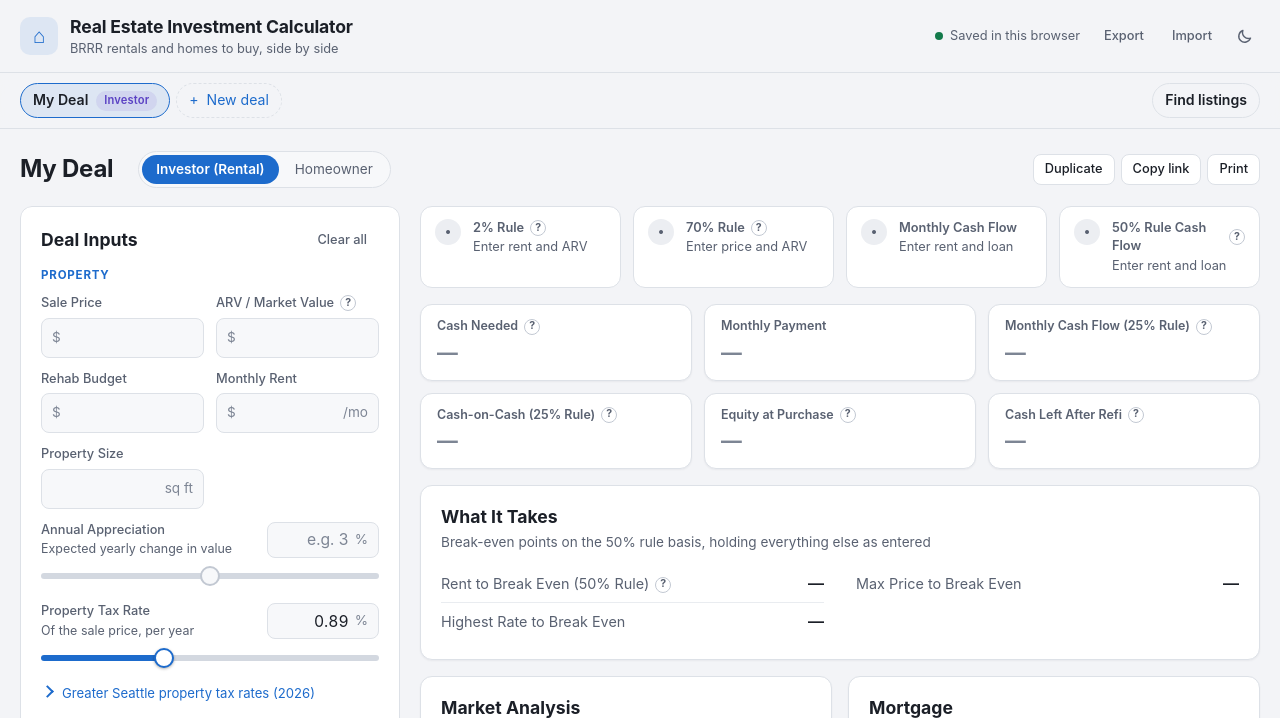
Test case: App › applies a greater Seattle tax rate from the reference list
Click the heading "Greater Seattle property tax rates (2026)".
click(188, 693)  # box [62,685,315,701]
(page scrolled)
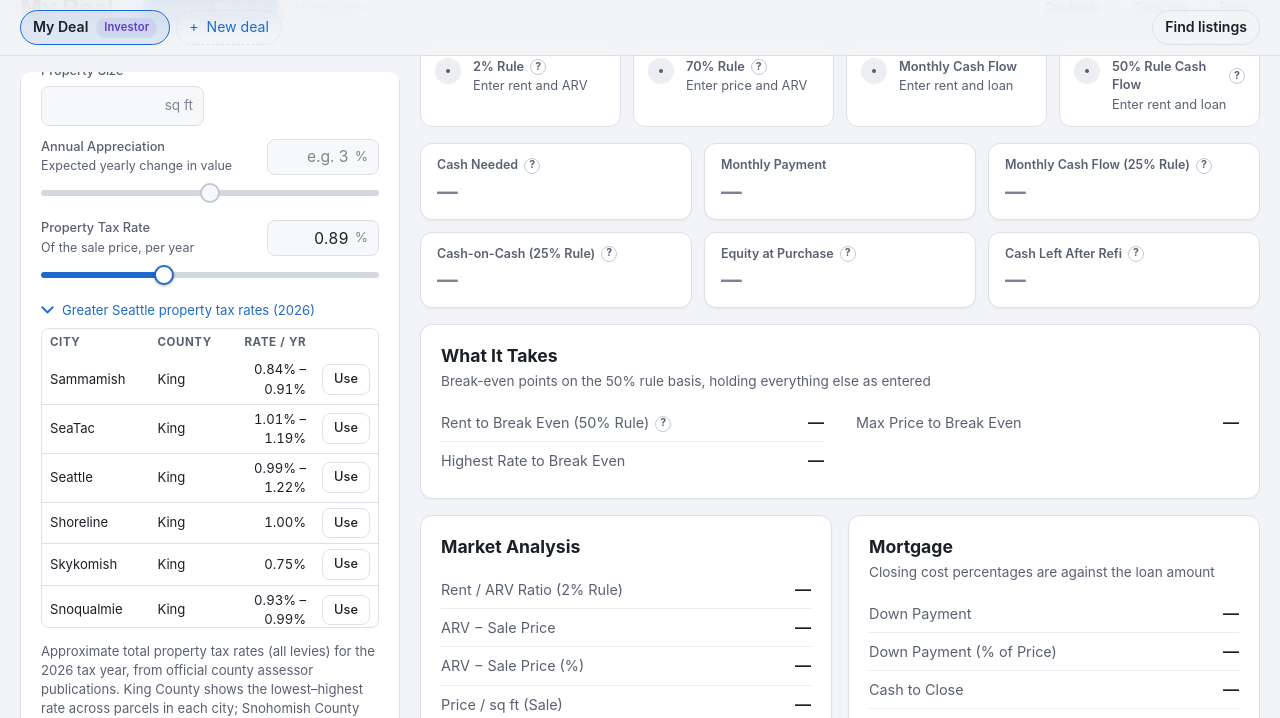
Click the button "Use" next to "0.99% – 1.22%".
click(346, 478)  # box [322,462,370,493]
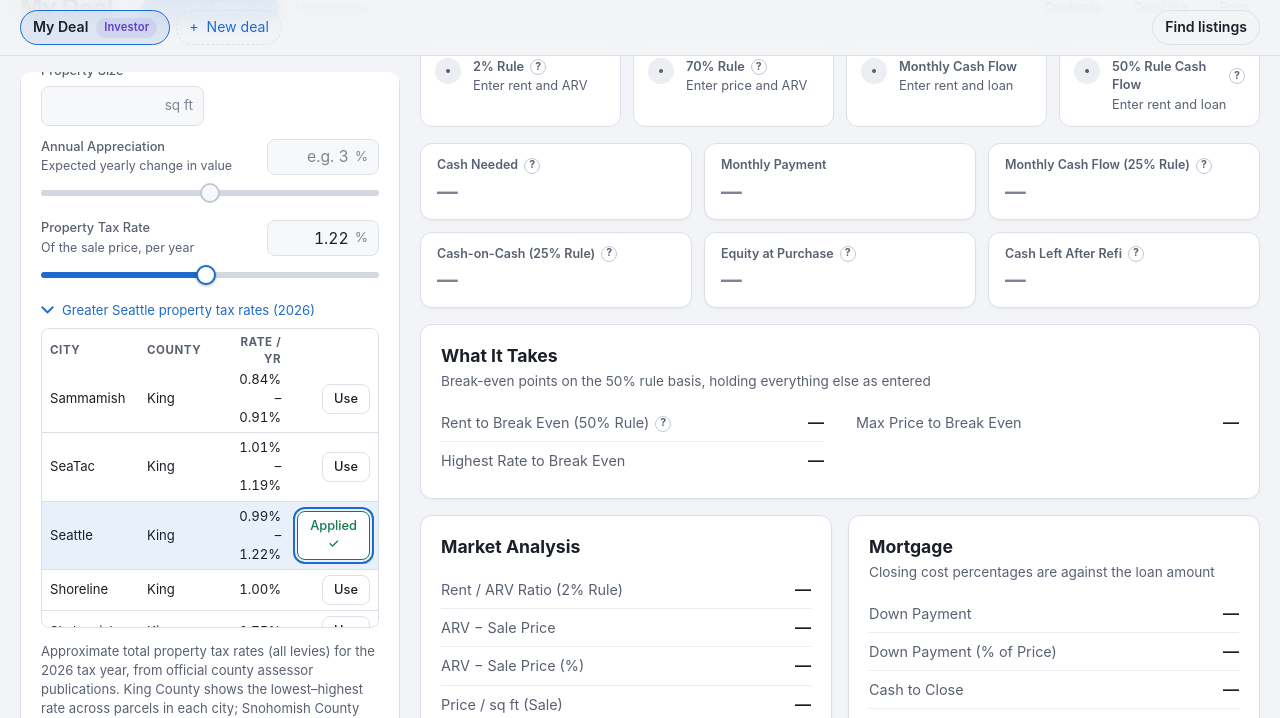
Result: the field labelled "Property Tax Rate" holds "1.22" at [278,221,349,255]
